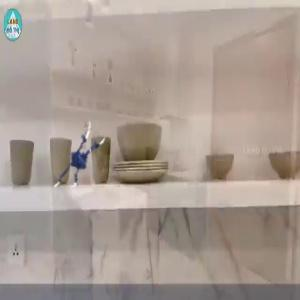drone: (37, 117, 113, 193)
